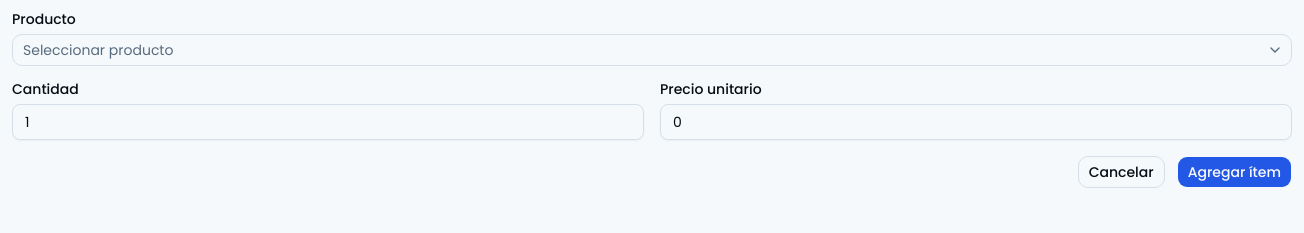
Test: ItemForm — validación › muestra 'Debe ser mayor a 0' si unit_price_at_time = 0
Click the dropdown at (98, 50), box [12,34,1292,66]
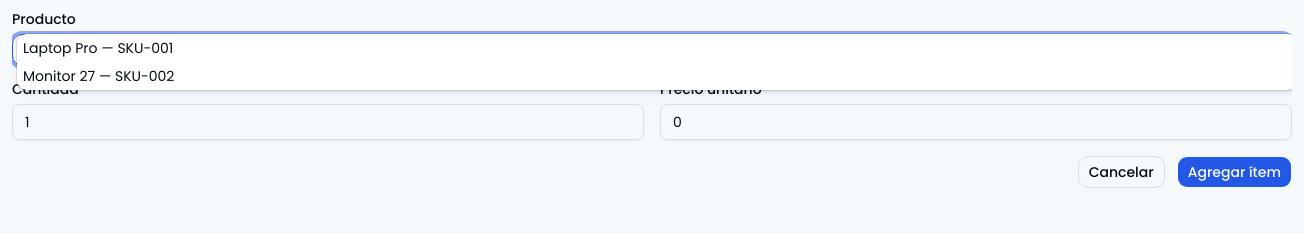
Click the option "Laptop Pro — SKU-001" at (98, 48), box [23,38,173,58]
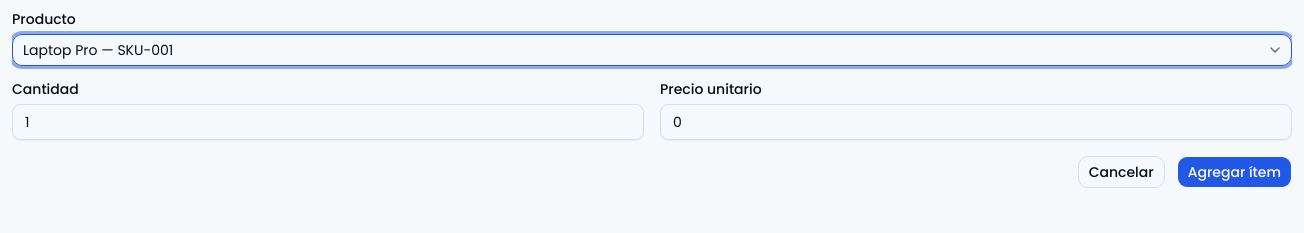
Click the button "Agregar ítem" at (1234, 172), box [1177,156,1292,188]
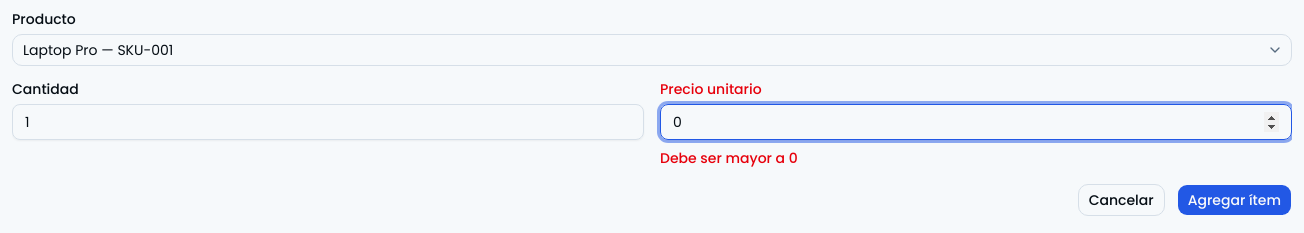
Result: the text "Debe ser mayor a 0" is shown at [660,148,798,168]
